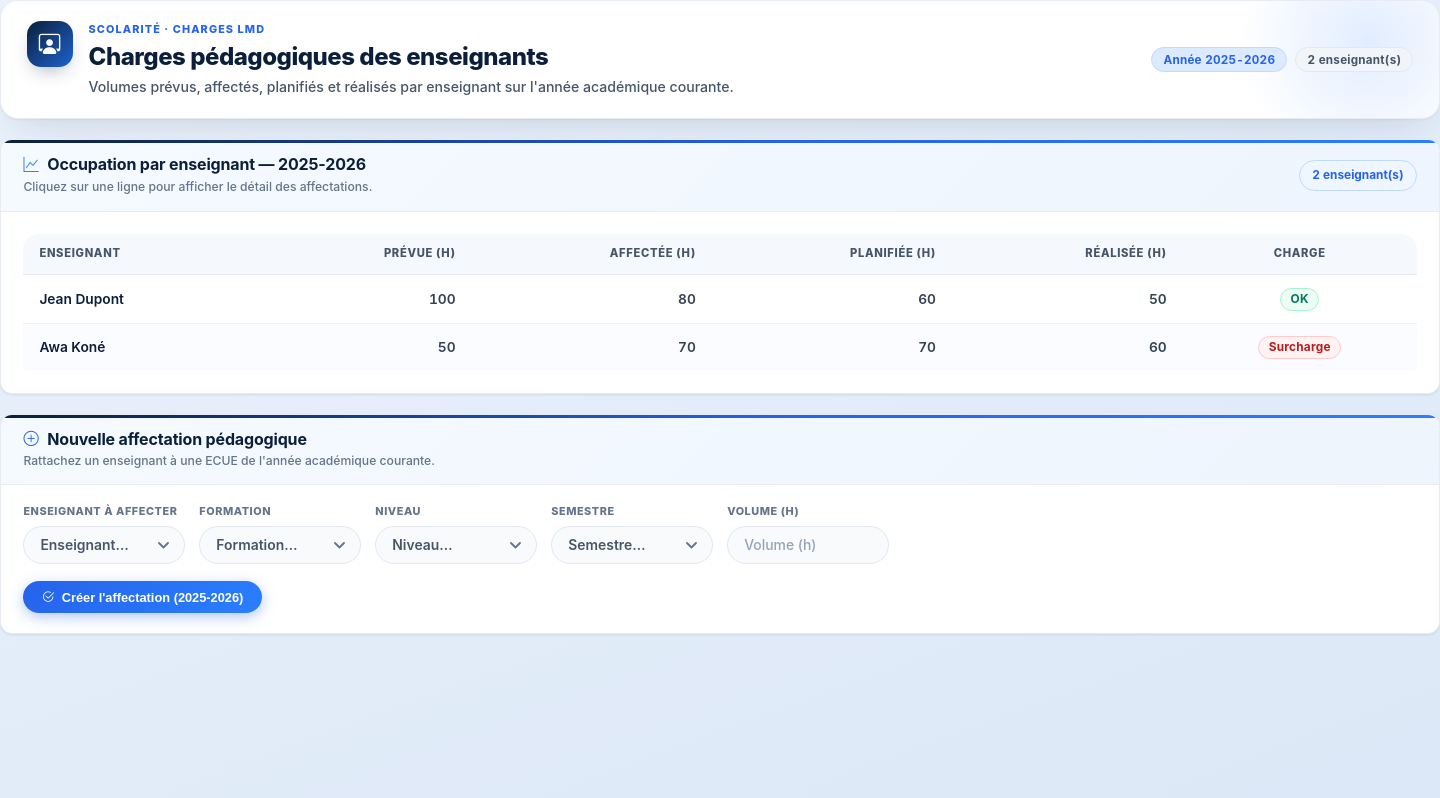
Test: pages/scolarite/ChargesEnseignants.jsx — détail enseignant (LOT 33) › change de détail au clic sur un autre enseignant
Click the row "Awa Koné 50 70 70 60 Surcharge".
click(720, 347)  # box [23,324,1417,371]
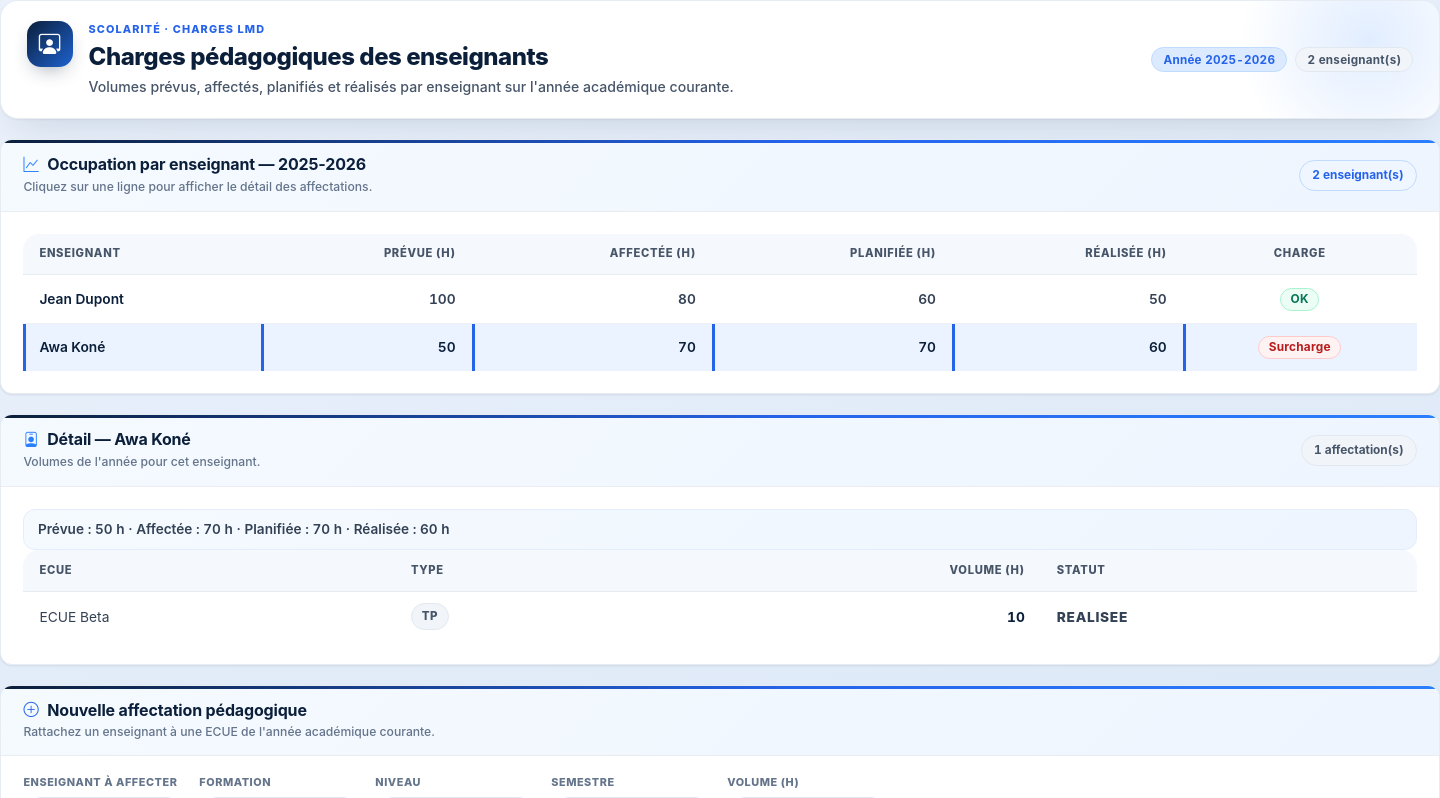
Result: the heading "Détail — Awa Koné" is shown at [23,430,191,450]
Result: the text "ECUE Beta" is shown at [23,592,395,642]
